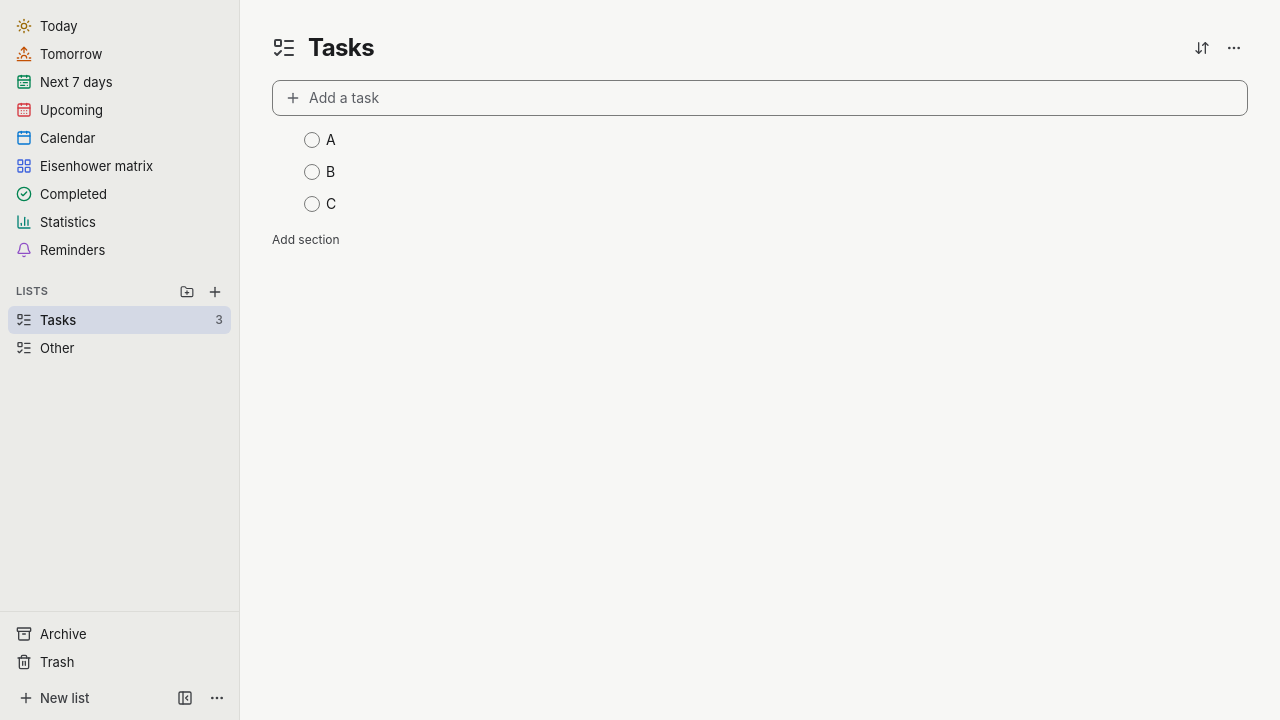
Test case: the selection bar › deletes the selected tasks, keeps focus on a remaining row, and Undo brings them back
This screenshot has width=1280, height=720.
Click the list item named "A". click: (338, 140)
box: [304, 128, 373, 152]
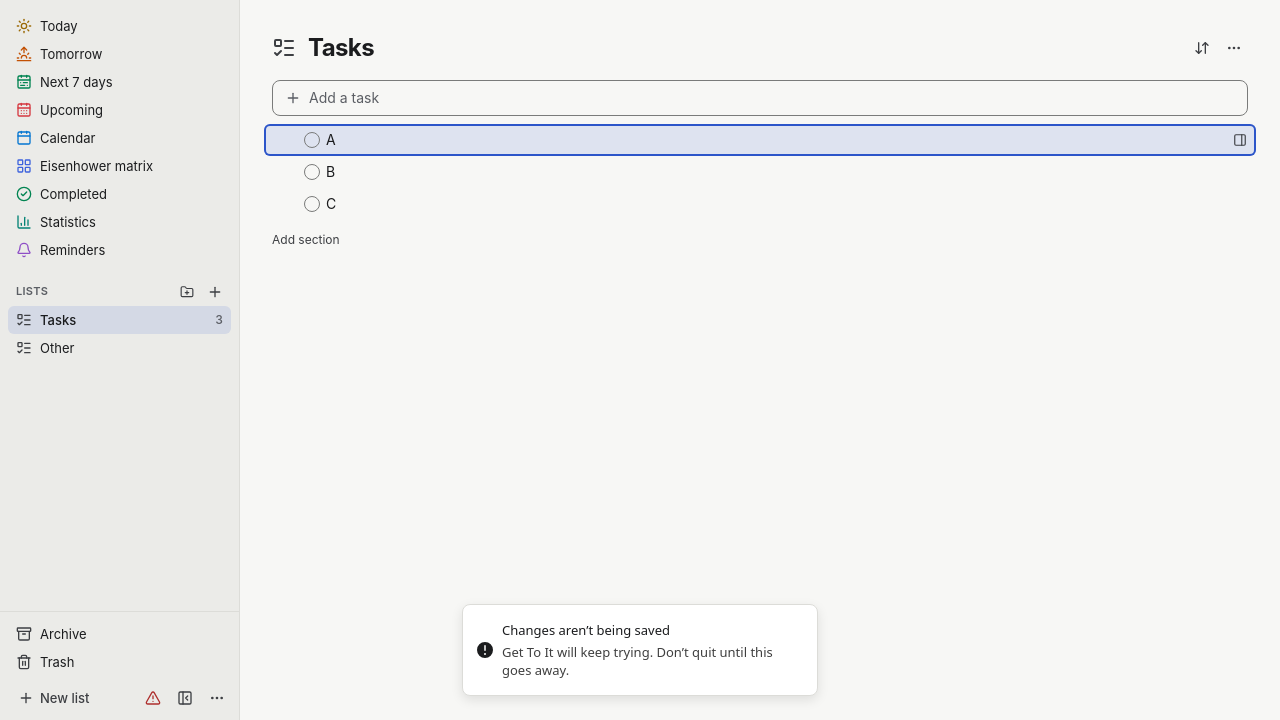
Type keys "{Shift>}"
Click the list item named "B". click: (338, 172)
box: [304, 160, 373, 184]
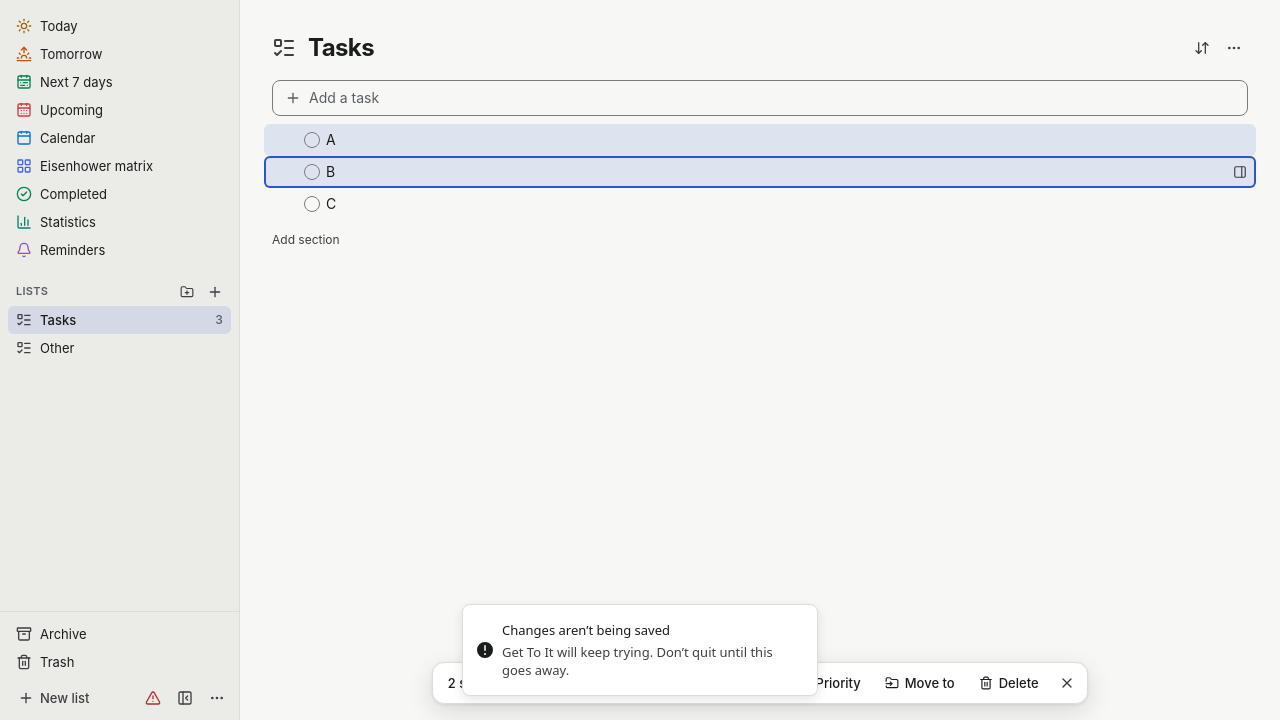
Type keys "{/Shift}"
Click the button "Delete". click: (1009, 683)
box: [969, 669, 1049, 697]
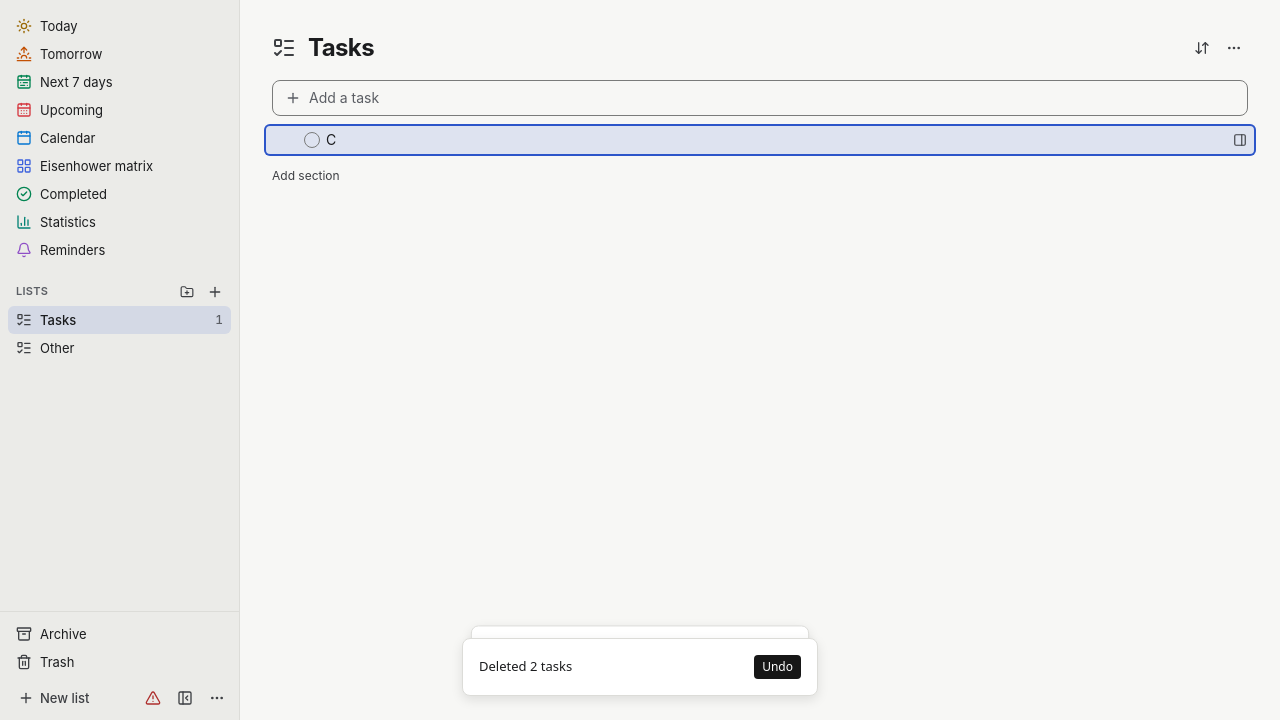
Result: the button "b" is gone
Result: the text "Deleted 2 tasks" is shown at [479, 657, 572, 677]
Click the button "Undo". click: (778, 667)
box: [754, 655, 801, 679]
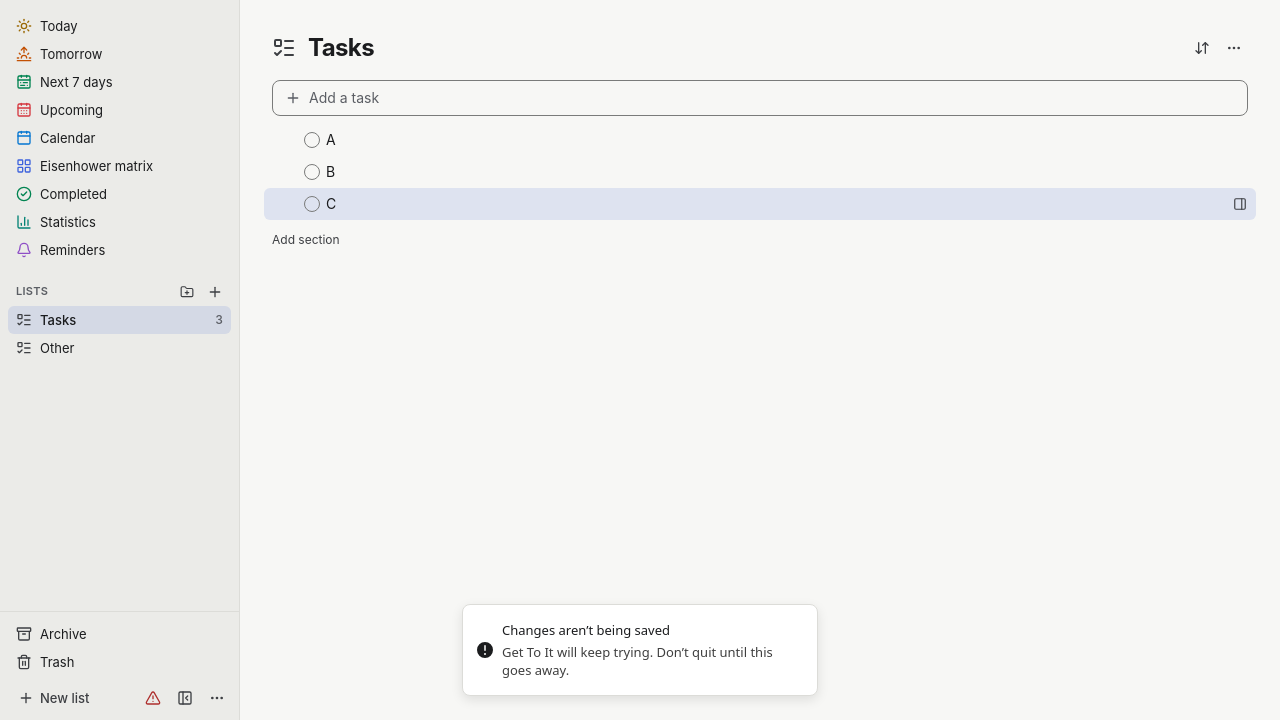
Result: the list item named "A" is shown at [304, 128, 373, 152]
Result: the list item named "B" is shown at [304, 160, 373, 184]
